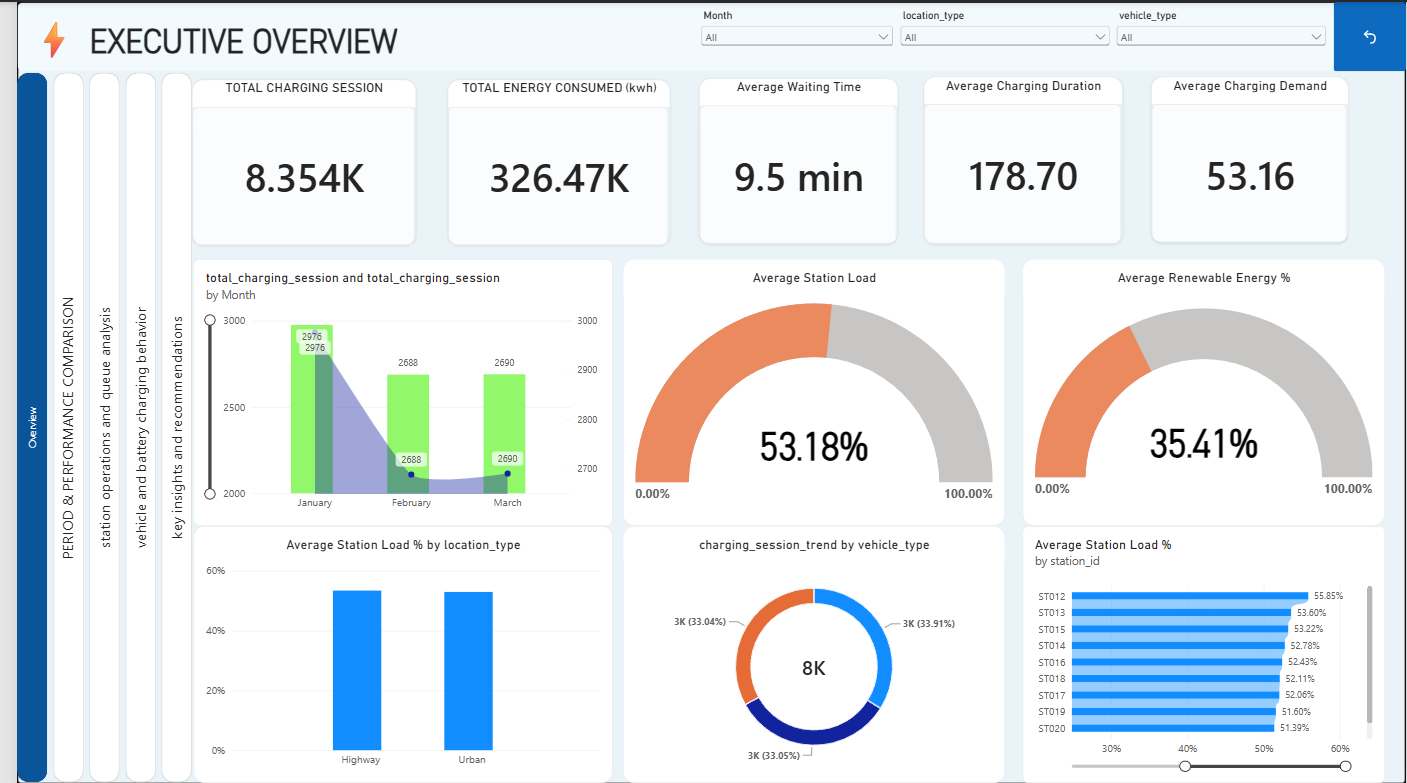

What the dashboard file says about the page in this screenshot:
{"tool":"powerbi","page":{"name":"Overview","canvas":[1920,1080],"ordinal":0},"visuals":[{"type":"cardVisual","fields":{"Data":["measure_heading.page1_title"]},"box":[0,0,1919.6,96.4],"z":0},{"type":"cardVisual","title":"TOTAL CHARGING SESSION","fields":{"Data":["measure_heading.total_charging_session"]},"box":[242.6,107.3,309.1,229.7],"z":1000},{"type":"cardVisual","title":"TOTAL ENERGY CONSUMED (kwh)","fields":{"Data":["measure_heading.total_energy_consumed"]},"box":[594.6,107.3,307,229.7],"z":2000},{"type":"cardVisual","title":"Average Waiting Time","fields":{"Data":["measure_heading.Average_Waiting_Time"]},"box":[942.3,105.2,274.8,229.7],"z":3000},{"type":"gauge","title":"Average Station Load","fields":{"Y":["measure_heading.Average Station Load %"]},"box":[838.5,355.4,528.2,369.2],"z":4000},{"type":"cardVisual","title":"Average Charging Duration","fields":{"Data":["measure_heading.average_charging_duration"]},"box":[1253.6,103,274.8,231.8],"z":5000},{"type":"cardVisual","title":"Average Charging Demand","fields":{"Data":["measure_heading.Average Charging Demand"]},"box":[1567,103,272.6,229.7],"z":6000},{"type":"gauge","fields":{"Y":["measure_heading.Average Renewable Energy %"]},"box":[1390.3,355.4,500.7,369.2],"z":7000},{"type":"lineStackedColumnComboChart","fields":{"Category":["DateTable.Date.Variation.Date Hierarchy.Month"],"Y":["measure_heading.total_charging_session"],"Y2":["measure_heading.total_charging_session"]},"box":[243.5,355.4,579.3,369.2],"z":8000},{"type":"columnChart","fields":{"Category":["ev_charging_dataset.location_type"],"Y":["measure_heading.Average Station Load %"]},"box":[243.5,724.6,579.3,355.4],"z":9000},{"type":"donutChart","fields":{"Category":["ev_charging_dataset.vehicle_type"],"Y":["measure_heading.charging_session_trend"]},"box":[838.5,724.6,528.2,355.4],"z":10000},{"type":"barChart","fields":{"Category":["ev_charging_dataset.station_id"],"Y":["measure_heading.Average Station Load %"]},"box":[1390.3,724.6,500.7,355.4],"z":11000},{"type":"slicer","fields":{"Values":["DateTable.Month"]},"box":[942,8.9,274.5,78.1],"z":12000},{"type":"slicer","fields":{"Values":["ev_charging_dataset.vehicle_type"]},"box":[1515.6,8.9,299.1,87.1],"z":13000},{"type":"slicer","fields":{"Values":["ev_charging_dataset.location_type"]},"box":[1216.5,8.9,299.1,87.1],"z":14000},{"type":"actionButton","box":[1819.2,0,100.4,96],"z":15000},{"type":"pageNavigator","box":[0,98.2,243.5,981.8],"z":16000}]}

Visuals, with their boxes on the page's 1920x1080 design canvas (x1, y1, x2, y2). These are canvas units, not pixel positions in the 1407x783 screenshot, which may show the page scaled, cropped or inside an application window:
cardVisual - measure_heading.page1_title: 0:0:1920:96
"TOTAL CHARGING SESSION" cardVisual: 243:107:552:337
"TOTAL ENERGY CONSUMED (kwh)" cardVisual: 595:107:902:337
"Average Waiting Time" cardVisual: 942:105:1217:335
"Average Station Load" gauge: 838:355:1367:725
"Average Charging Duration" cardVisual: 1254:103:1528:335
"Average Charging Demand" cardVisual: 1567:103:1840:333
gauge - measure_heading.Average Renewable Energy %: 1390:355:1891:725
lineStackedColumnComboChart - DateTable.Date.Variation.Date Hierarchy.Month x measure_heading.total_charging_session: 244:355:823:725
columnChart - ev_charging_dataset.location_type x measure_heading.Average Station Load %: 244:725:823:1080
donutChart - ev_charging_dataset.vehicle_type x measure_heading.charging_session_trend: 838:725:1367:1080
barChart - ev_charging_dataset.station_id x measure_heading.Average Station Load %: 1390:725:1891:1080
slicer - DateTable.Month: 942:9:1216:87
slicer - ev_charging_dataset.vehicle_type: 1516:9:1815:96
slicer - ev_charging_dataset.location_type: 1216:9:1516:96
actionButton: 1819:0:1920:96
pageNavigator: 0:98:244:1080
